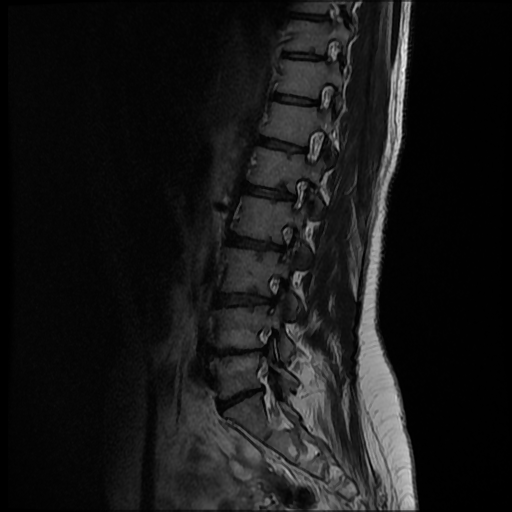RFS0: (283, 170, 318, 216)
RFS1: (269, 216, 302, 264)
